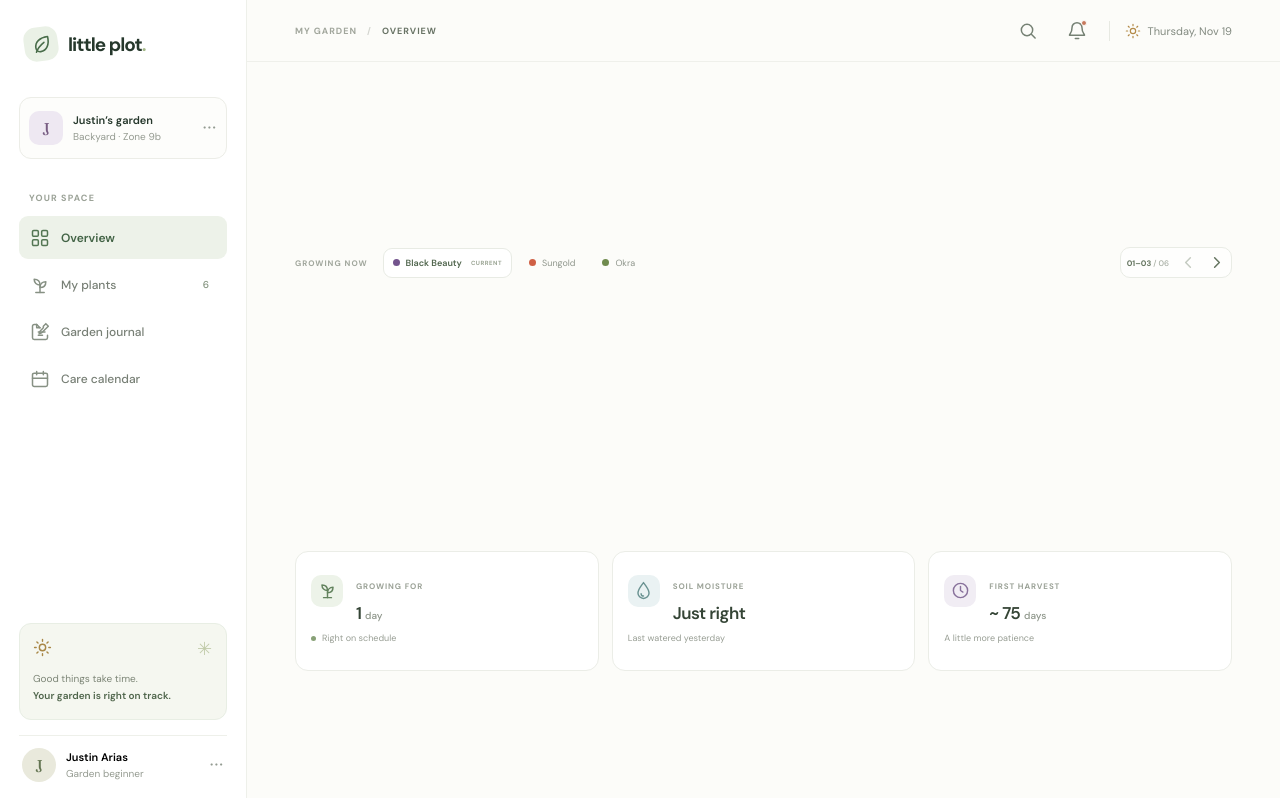
Scenario: shows only three plants at a time and slides to the next plants
The image size is (1280, 798).
Expected: the link with aria-label "black beauty eggplant current" is shown, [383, 248, 512, 278]
Expected: the link with aria-label "clemson spineless okra" is shown, [602, 257, 635, 269]
Click the button named "Next plants". click: (1216, 263)
box: [1204, 250, 1229, 275]
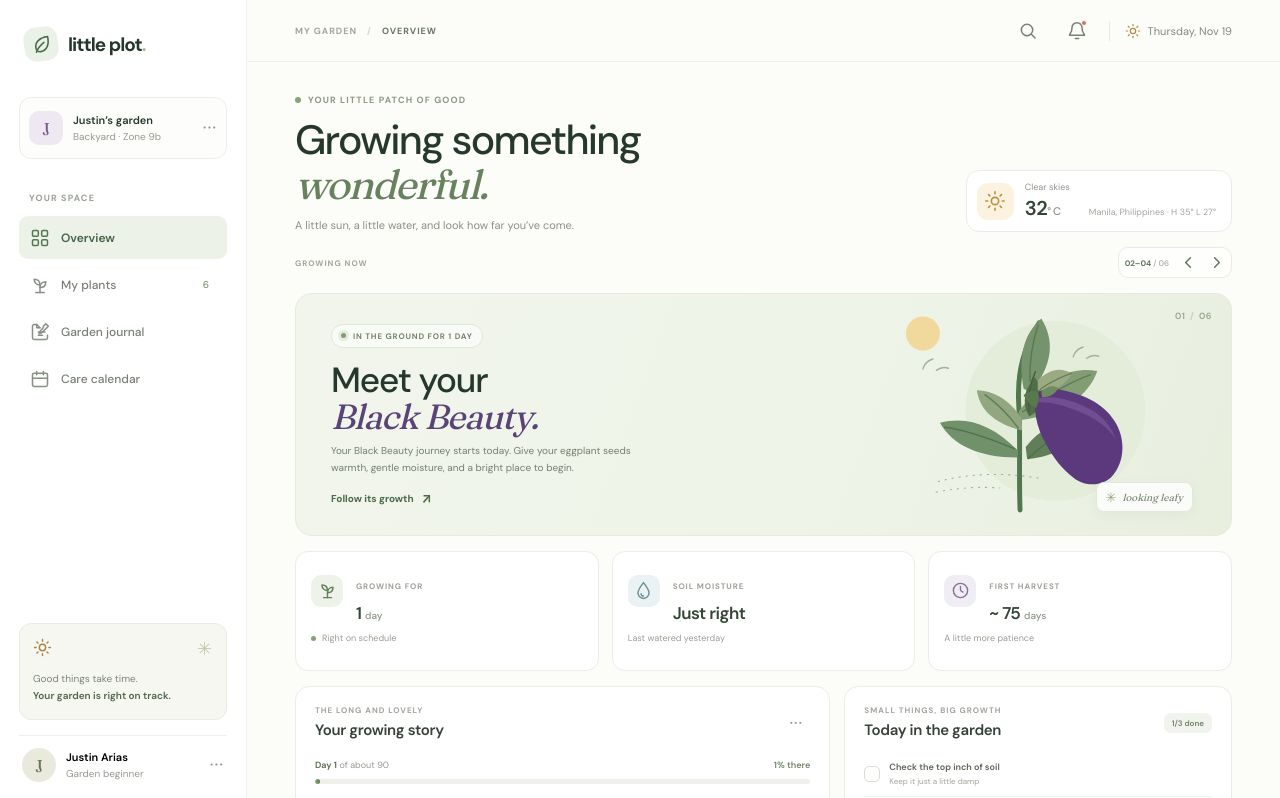
Result: the element named "Showing plants 2 to 4 of 6" is shown at [1125, 258, 1169, 268]
Click the button named "Previous plants". click: (1188, 263)
box: [1176, 250, 1201, 275]
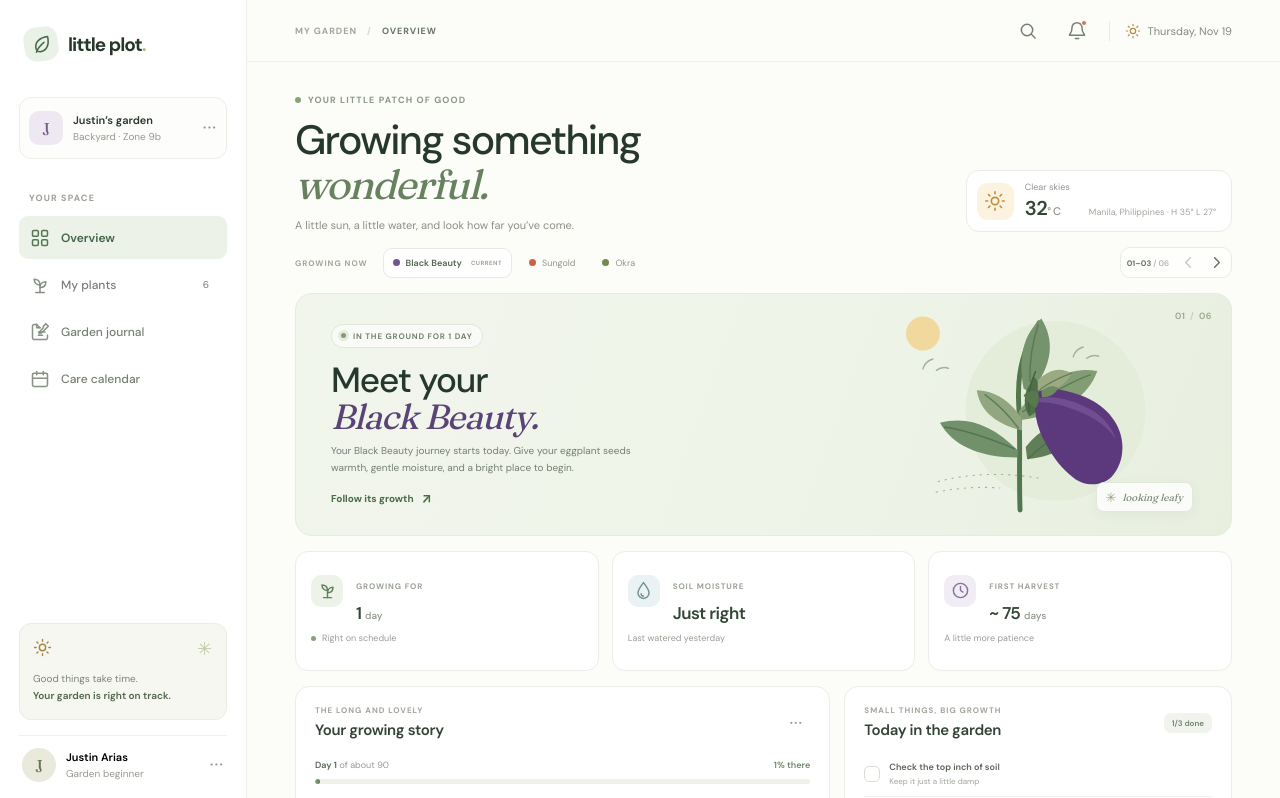
Result: the link with aria-label "black beauty eggplant current" is shown at [383, 248, 512, 278]
Result: the element named "Showing plants 1 to 3 of 6" is shown at [1127, 258, 1169, 268]
